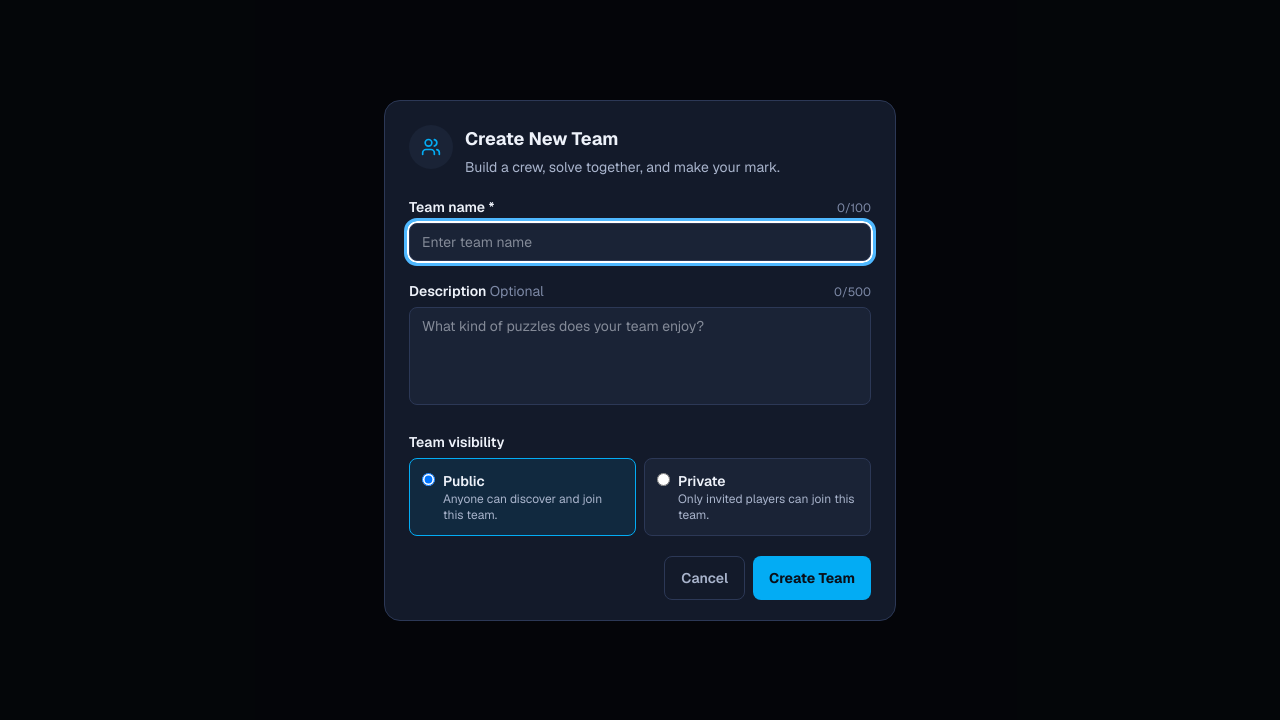
Test case: CreateTeamModal — pending behavior › 82-89. pending disables everything and shows Creating…
In the field with test id "create-team-name": (640, 242) 409,222 -> 871,260, type "Team"
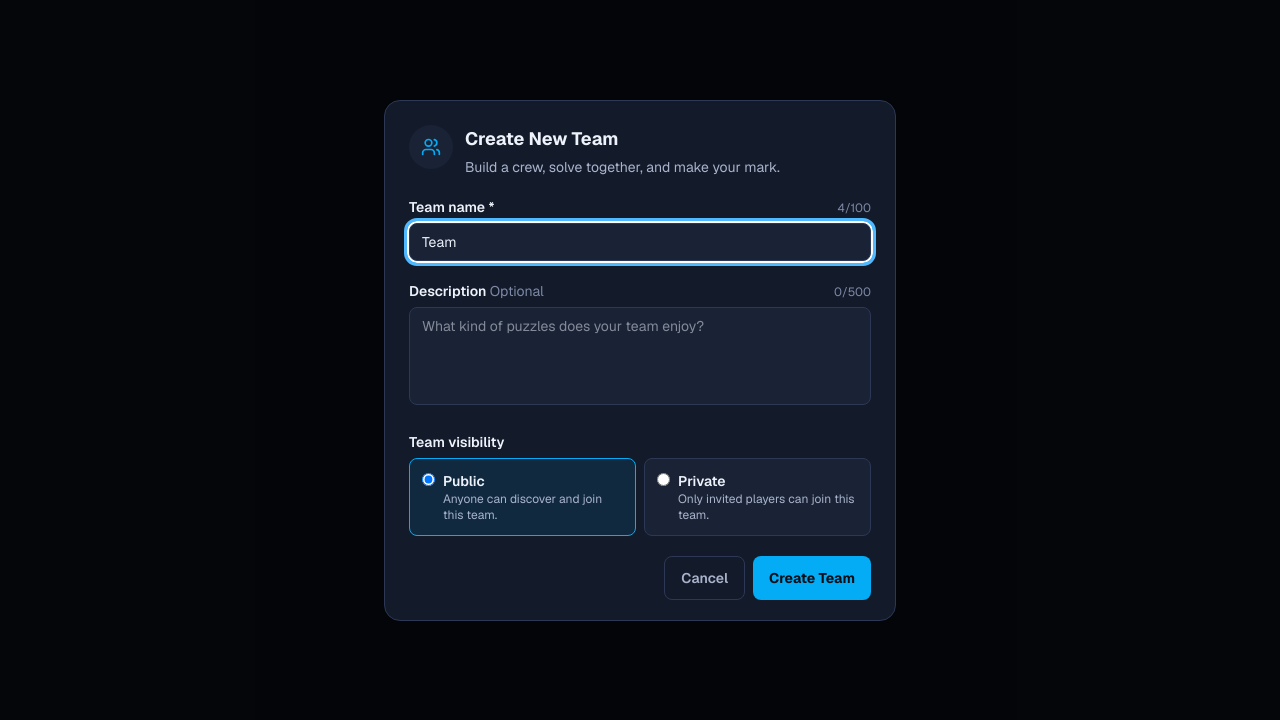
Click the button with test id "create-team-submit": (812, 578) 753,556 -> 871,600
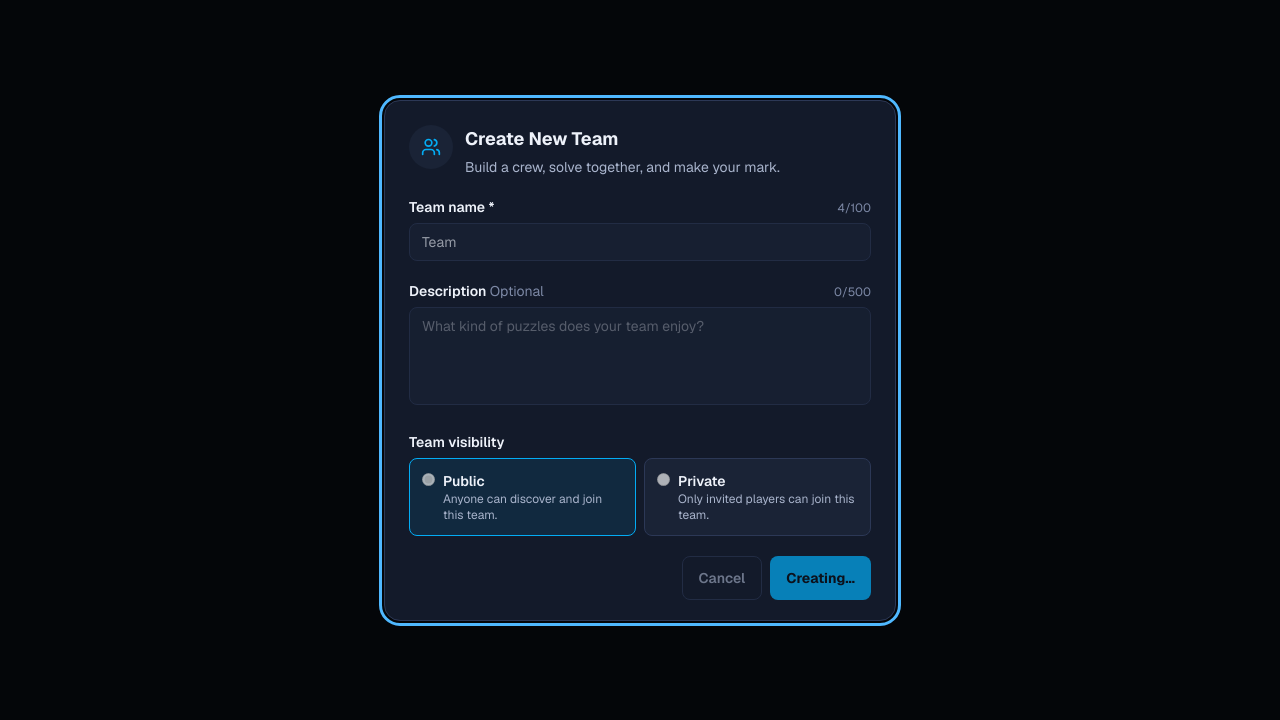
Expected: the button with test id "create-team-submit" reads "Creating…", 770,556 -> 871,600
Expected: the field with test id "create-team-name" is disabled, 409,222 -> 871,260
Expected: the text box with test id "create-team-description" is disabled, 409,306 -> 871,404
